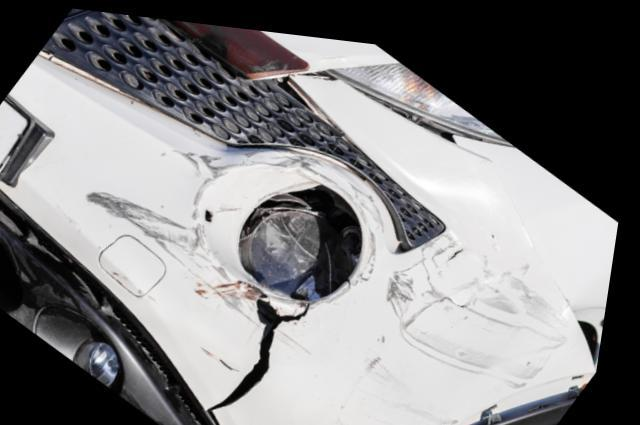crack: (217, 291, 318, 406)
lamp broken: (244, 177, 358, 288)
scratch: (83, 140, 393, 300), (338, 220, 578, 425)
